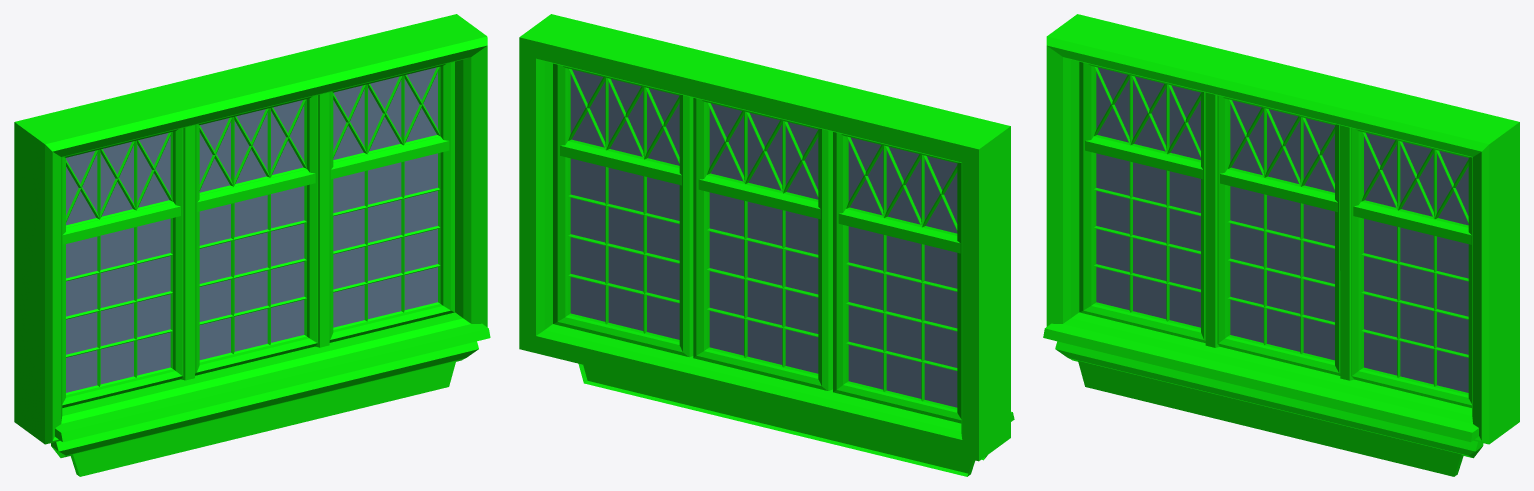
The model's file is SM_Window_Big_A_Fantasy.fbx.
3 renders of one model, left to right at view 1: azimuth 30°, elevation 25°; view 2: azimuth 150°, elevation 25°; view 3: azimuth 330°, elevation 25°, orthographic. The views are drawn at different scales.
Parts seen in each view (by area): view 1: window-big-a-frame-fantasy, window-big-a-window-right-fantasy, window-big-a-window-left-fantasy, window-big-a-window-middle-fantasy; view 2: window-big-a-frame-fantasy, window-big-a-window-right-fantasy, window-big-a-window-middle-fantasy, window-big-a-window-left-fantasy; view 3: window-big-a-frame-fantasy, window-big-a-window-left-fantasy, window-big-a-window-right-fantasy, window-big-a-window-middle-fantasy.
Boxes of the visible parts, box(x1,y1,x2,y2) form: window-big-a-frame-fantasy: box(14, 14, 490, 476); window-big-a-window-right-fantasy: box(315, 61, 454, 347); window-big-a-window-left-fantasy: box(62, 125, 194, 407); window-big-a-window-middle-fantasy: box(195, 95, 317, 375); window-big-a-frame-fantasy: box(519, 14, 1014, 476); window-big-a-window-right-fantasy: box(553, 63, 693, 357); window-big-a-window-middle-fantasy: box(693, 98, 832, 390); window-big-a-window-left-fantasy: box(833, 132, 961, 423); window-big-a-frame-fantasy: box(1043, 14, 1519, 476); window-big-a-window-left-fantasy: box(1079, 61, 1219, 347); window-big-a-window-right-fantasy: box(1340, 125, 1471, 407); window-big-a-window-middle-fantasy: box(1217, 95, 1340, 375).
Size of the model in its own units: 2.17 by 1.6 by 0.3509.
